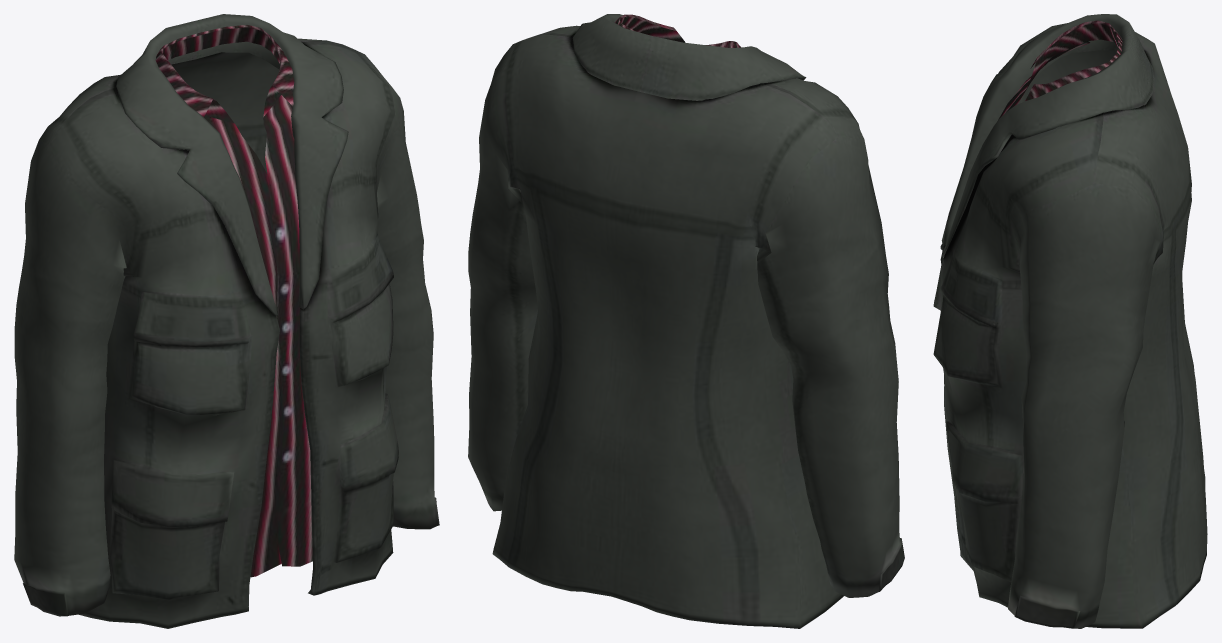
File: outer_casual_jacket.gltf
The picture shows the model from 3 angles, left to right: view 1: azimuth 30°, elevation 25°; view 2: azimuth 150°, elevation 25°; view 3: azimuth 270°, elevation 25°; orthographic projection. The views are drawn at different scales.
Parts seen in each view (by area): view 1: outer_casual_jacket; view 2: outer_casual_jacket; view 3: outer_casual_jacket.
Boxes of the visible parts, x1,y1,x2,y2 form: outer_casual_jacket: (14,14,439,628); outer_casual_jacket: (468,14,904,628); outer_casual_jacket: (933,14,1207,628).
Size of the model in its own units: 0.5293 by 0.6711 by 0.3194.
1 material, 1 textured.
